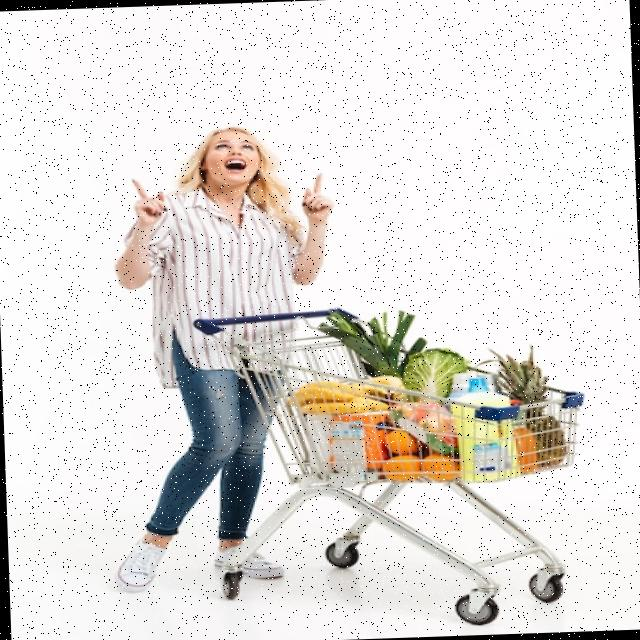Person: (100, 124, 347, 594)
